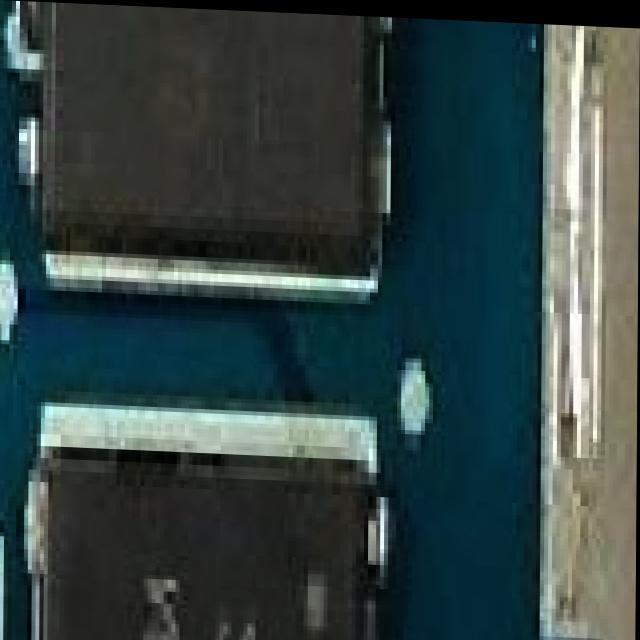IC: (18, 1, 400, 290), (20, 397, 386, 640)
inductor: (576, 20, 640, 640)
